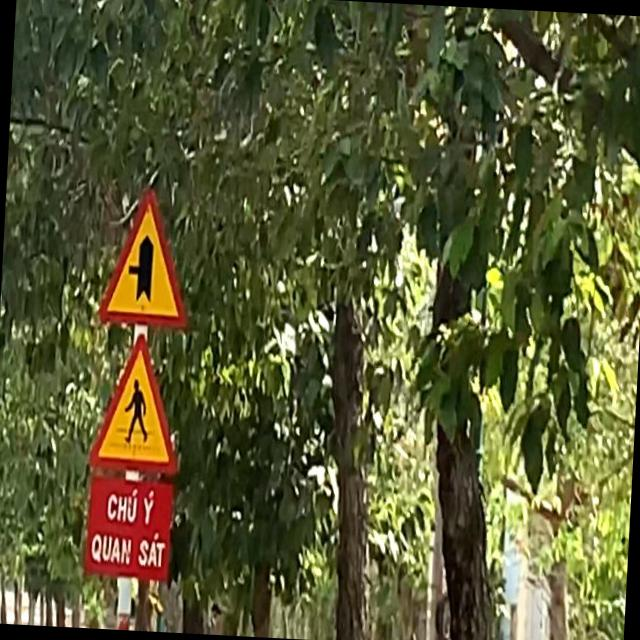W-207c: (96, 186, 194, 332)
W-224: (87, 330, 185, 478)
